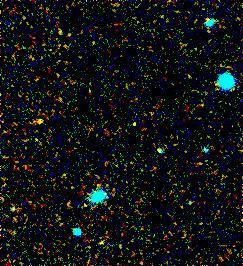star: (19, 108, 49, 138)
